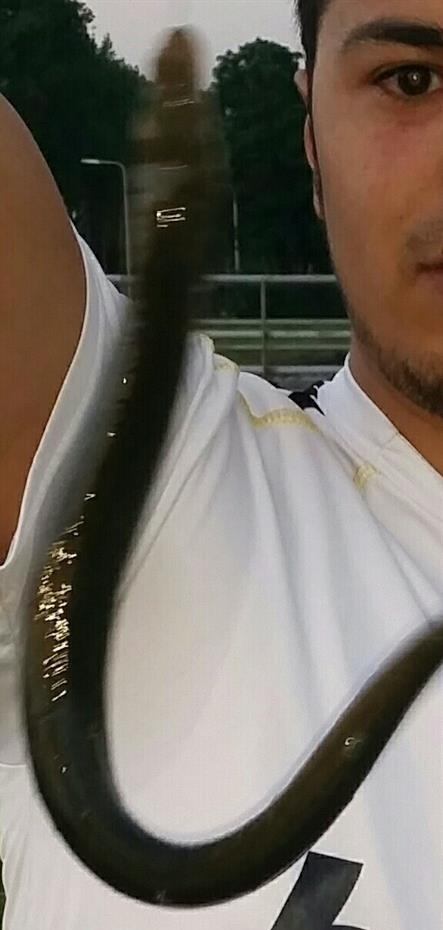Anguilla anguilla: (20, 20, 443, 910)
